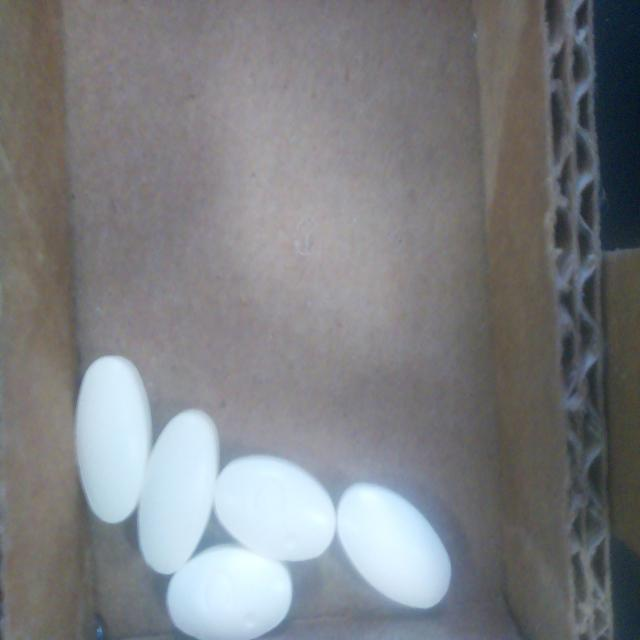pill: (337, 483, 451, 609), (138, 409, 219, 574), (214, 455, 336, 562), (75, 356, 152, 523), (166, 545, 292, 640)
